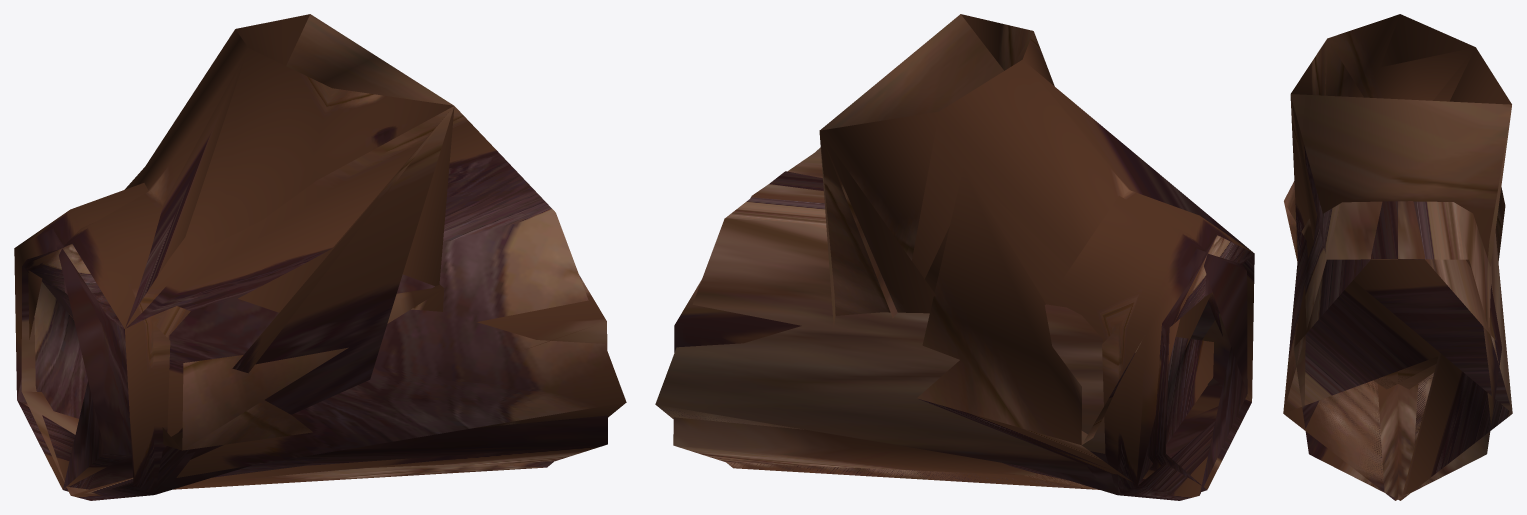
File: a_wt_m_sho_00.obj
The picture shows the model from 3 angles, left to right: view 1: azimuth 30°, elevation 25°; view 2: azimuth 150°, elevation 25°; view 3: azimuth 270°, elevation 25°; orthographic projection. The views are drawn at different scales.
Size of the model in its own units: 7.84 by 7.48 by 4.13.
